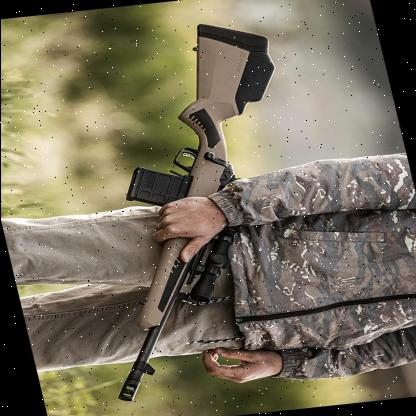rifle: (30, 16, 358, 410)
